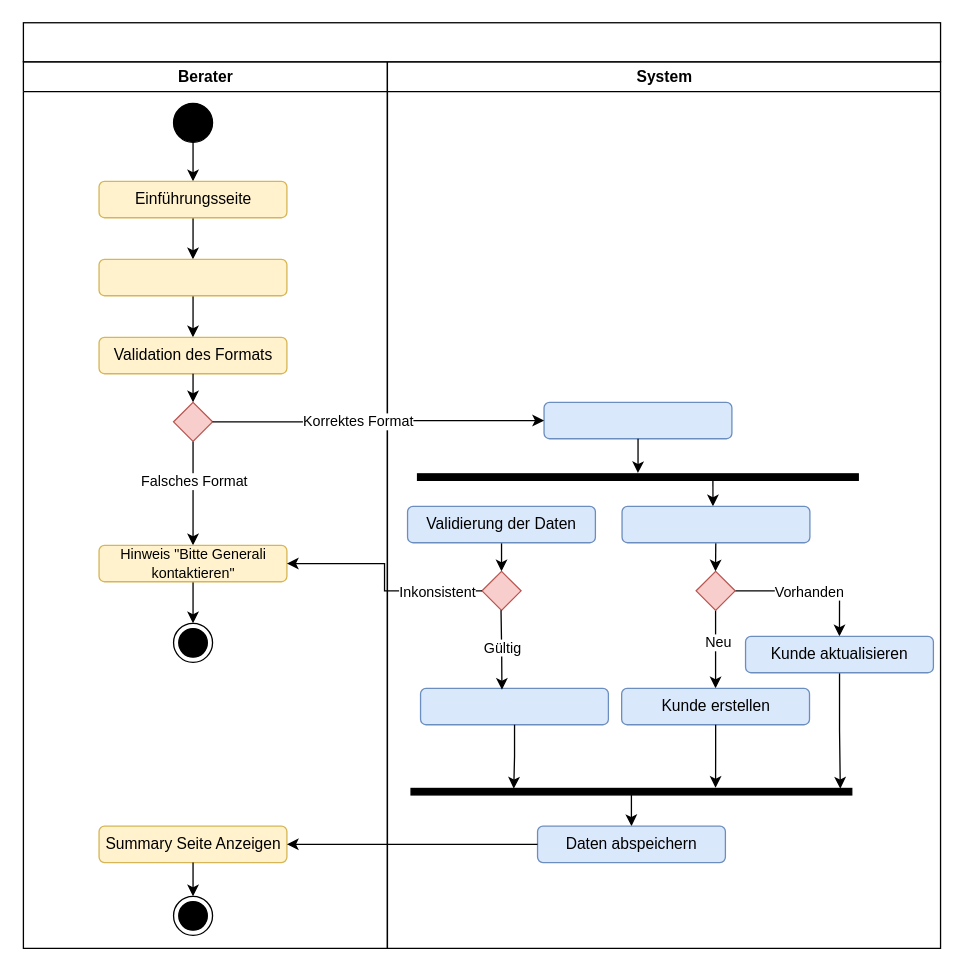
Some shapes in this 963 by 971 pixel diagram are drawn without their labels. Here are the shapes that lost their labels. From the top down, the centre of each, then its label:
At pixel 481 41: "Legacy Daten Import Wizard - Aktivitätsdiagram".
At pixel 192 277: "Upload der XLS Datei".
At pixel 637 420: "Initialisierung Import".
At pixel 715 524: "Überprüfung Doppelter Einträge".
At pixel 513 706: "Daten Import Vorbereiten".
